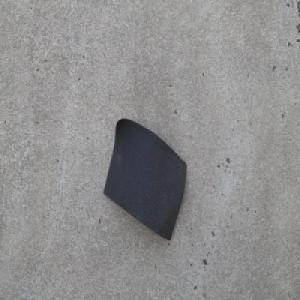PaintChip: (103, 117, 187, 241)
